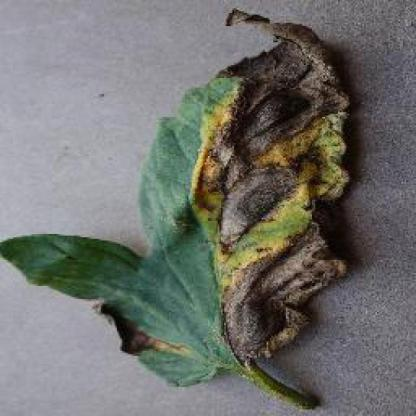Tomato_Blight: (0, 9, 345, 384)
